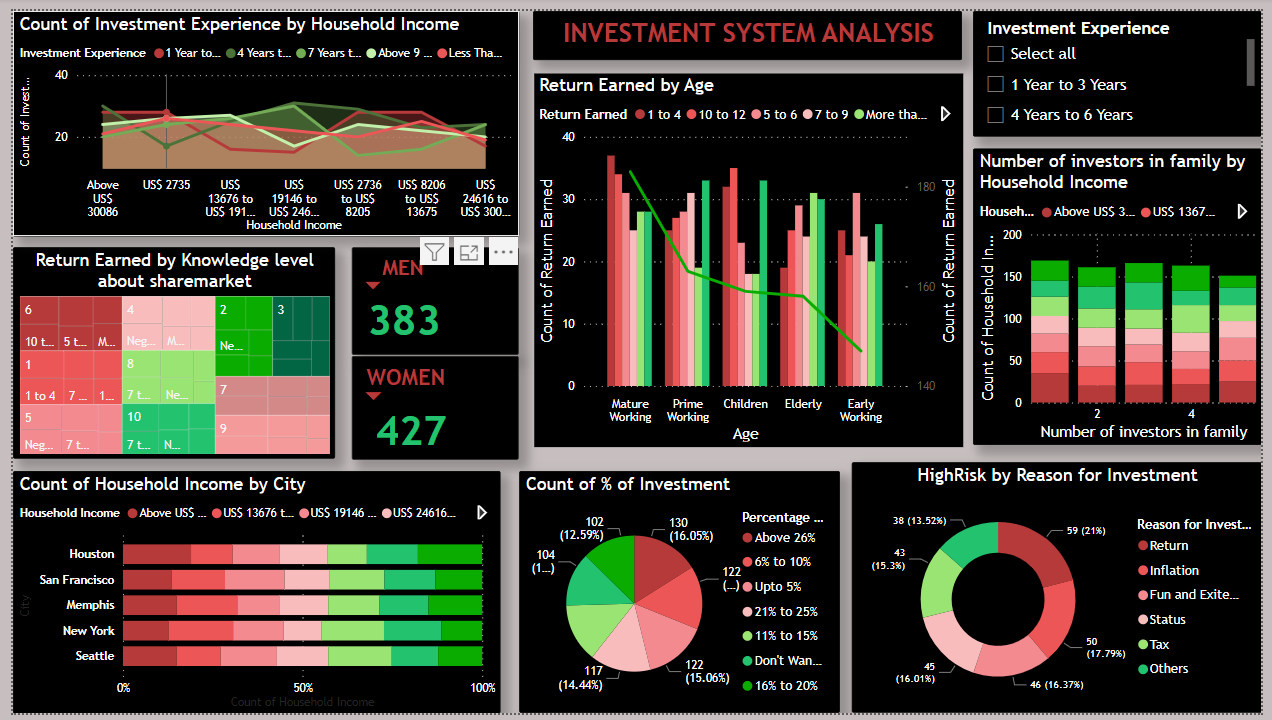

The page's visual inventory and layout, read from the dashboard file:
{"tool":"powerbi","page":{"name":"Page 1","canvas":[1280,720],"ordinal":0},"visuals":[{"type":"textbox","box":[533.8,0,440.3,50.6],"z":0},{"type":"tableEx","fields":{"Values":["Sheet1.CountMen"]},"box":[348.1,242.9,171.4,110.4],"z":1000},{"type":"tableEx","fields":{"Values":["Sheet1.CountWomen"]},"box":[348.1,353.2,171.4,106.5],"z":2000},{"type":"treemap","title":"Return Earned by Knowledge level about sharemarket","fields":{"Group":["Sheet1.Knowledge level about sharemarket"],"Values":["CountNonNull(Sheet1.Return Earned)"],"Details":["Sheet1.Return Earned"]},"box":[0,242.9,330,217.1],"z":3000},{"type":"pieChart","title":"Count of % of Investment","fields":{"Category":["Sheet1.Percentage of Investment"],"Y":["CountNonNull(Sheet1.Percentage of Investment)"]},"box":[519.5,471.4,328.6,248.1],"z":4000},{"type":"donutChart","title":"HighRisk by Reason for Investment","fields":{"Category":["Sheet1.Reason for Investment"],"Y":["Sheet1.CountHighRisk"]},"box":[859.7,462.3,420.8,257.1],"z":5000},{"type":"hundredPercentStackedBarChart","title":"Count of Household Income by City","fields":{"Category":["Sheet1.City"],"Y":["CountNonNull(Sheet1.Household Income)"],"Series":["Sheet1.Household Income"]},"box":[0,471.4,500,248.6],"z":6000},{"type":"slicer","fields":{"Values":["Sheet1.Investment Experience"]},"box":[984.3,0,295.7,128.6],"z":7000},{"type":"lineClusteredColumnComboChart","title":"Return Earned by Age","fields":{"Category":["Sheet1.Age"],"Y2":["CountNonNull(Sheet1.Return Earned)"],"Series":["Sheet1.Return Earned"],"Y":["CountNonNull(Sheet1.Return Earned)"]},"box":[534.3,64.3,440,382.9],"z":8000},{"type":"areaChart","title":"Count of Investment Experience by Household Income","fields":{"Y":["CountNonNull(Sheet1.Investment Experience)"],"Category":["Sheet1.Household Income"],"Series":["Sheet1.Investment Experience"]},"box":[0,0,519.5,231.2],"z":9000},{"type":"lineStackedColumnComboChart","title":"Number of investors in family by Household Income","fields":{"Category":["Sheet1.Number of investors in family"],"Y":["CountNonNull(Sheet1.Household Income)"],"Series":["Sheet1.Household Income"]},"box":[984.3,141.4,295.7,304.3],"z":10000}]}

Visuals, with their boxes in screenshot pixels (x1, y1, x2, y2), scaled from the page's 1280x720 canvas onto the 1272x720 screenshot:
textbox: x1=530 y1=0 x2=968 y2=51
tableEx - Sheet1.CountMen: x1=346 y1=243 x2=516 y2=353
tableEx - Sheet1.CountWomen: x1=346 y1=353 x2=516 y2=460
"Return Earned by Knowledge level about sharemarket" treemap: x1=0 y1=243 x2=328 y2=460
"Count of % of Investment" pieChart: x1=516 y1=471 x2=843 y2=719
"HighRisk by Reason for Investment" donutChart: x1=854 y1=462 x2=1271 y2=719
"Count of Household Income by City" hundredPercentStackedBarChart: x1=0 y1=471 x2=497 y2=719
slicer - Sheet1.Investment Experience: x1=978 y1=0 x2=1271 y2=129
"Return Earned by Age" lineClusteredColumnComboChart: x1=531 y1=64 x2=968 y2=447
"Count of Investment Experience by Household Income" areaChart: x1=0 y1=0 x2=516 y2=231
"Number of investors in family by Household Income" lineStackedColumnComboChart: x1=978 y1=141 x2=1271 y2=446
